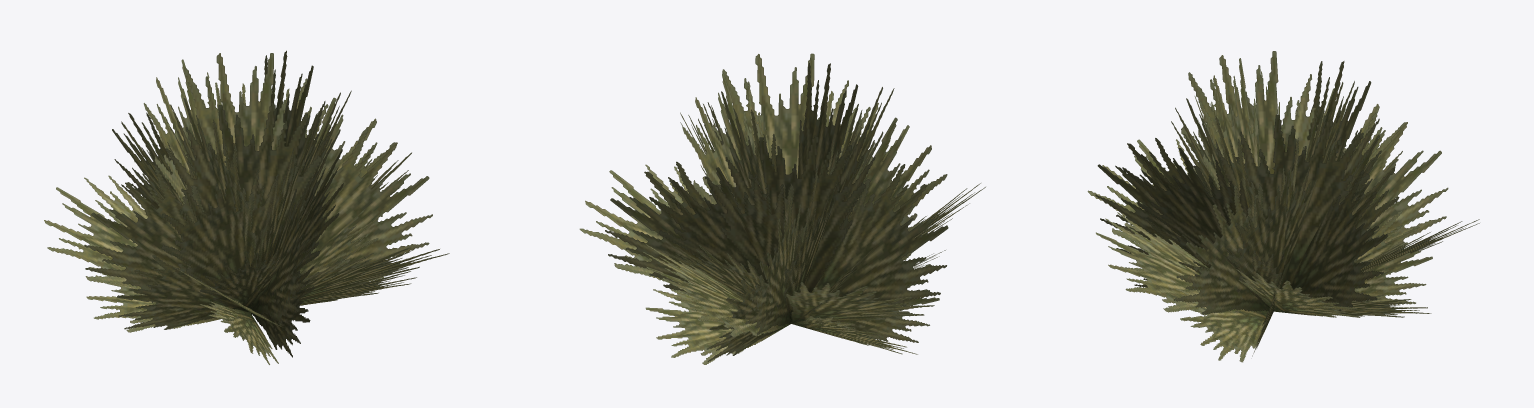
Rendered from C1SNGORSEA.obj.
3 renders of one model, left to right at view 1: azimuth 30°, elevation 25°; view 2: azimuth 150°, elevation 25°; view 3: azimuth 270°, elevation 25°, orthographic. The views are drawn at different scales.
Visible parts, largest first — view 1: Node 0; view 2: Node 0; view 3: Node 0.
Boxes of the visible parts, box(x1,y1,x2,y2) form: Node 0: box(44, 50, 449, 364); Node 0: box(579, 53, 985, 364); Node 0: box(1087, 51, 1479, 362).
Bounding box in the file's own units: 1.87 × 1.1 × 1.99.
Materials: 1 (1 with a texture image).
